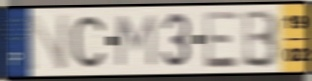3: (160, 11, 191, 70)
B: (242, 8, 282, 70)
C: (70, 14, 107, 70)
E: (202, 9, 241, 70)
M: (114, 13, 158, 69)
N: (27, 12, 71, 73)
